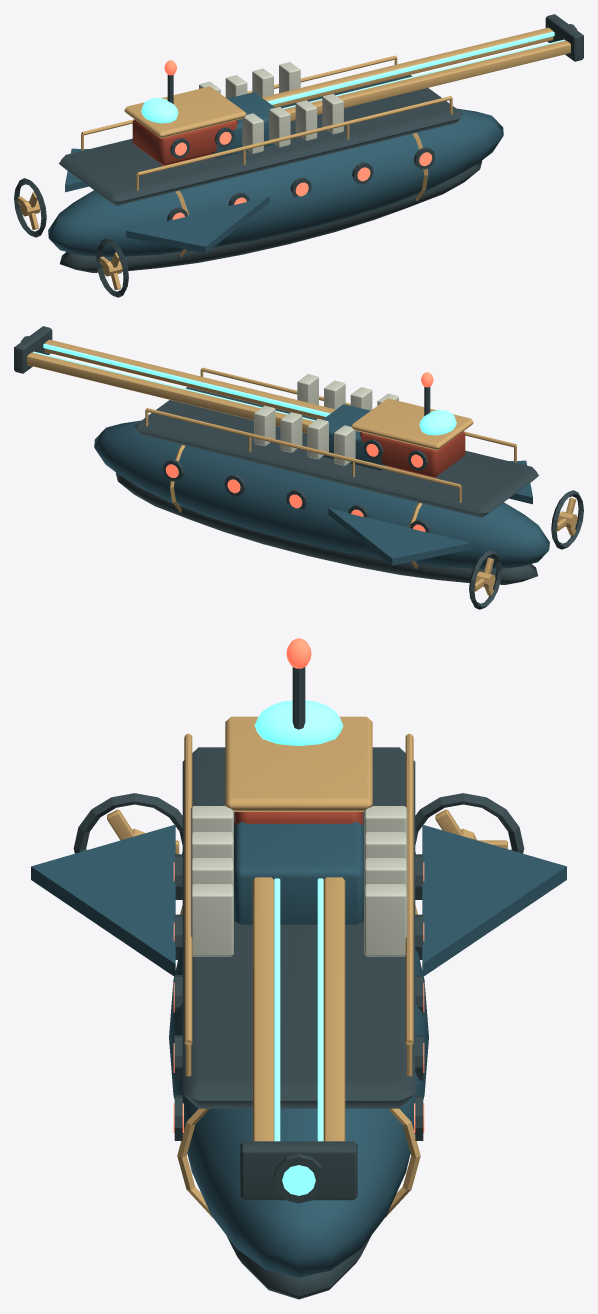
Rendered from enemy-sniper.glb.
The picture shows the model from 3 angles, top to bottom: view 1: azimuth 30°, elevation 25°; view 2: azimuth 150°, elevation 25°; view 3: azimuth 270°, elevation 25°; orthographic projection. The views are drawn at different scales.
Parts seen in each view (by area): view 1: enemy-sniper / Hull | Prussian enamel, enemy-sniper / Hull | charcoal iron, enemy-sniper / Fittings | worn maritime brass, enemy-sniper / Insulator | warm porcelain, enemy-sniper / Lamp | charged glacial blue, enemy-sniper / Hull | burnt cinnabar, enemy-sniper / Lamp | hostile coral; view 2: enemy-sniper / Hull | Prussian enamel, enemy-sniper / Hull | charcoal iron, enemy-sniper / Fittings | worn maritime brass, enemy-sniper / Insulator | warm porcelain, enemy-sniper / Lamp | charged glacial blue, enemy-sniper / Hull | burnt cinnabar, enemy-sniper / Lamp | hostile coral; view 3: enemy-sniper / Hull | Prussian enamel, enemy-sniper / Hull | charcoal iron, enemy-sniper / Fittings | worn maritime brass, enemy-sniper / Insulator | warm porcelain, enemy-sniper / Lamp | charged glacial blue, enemy-sniper / Hull | burnt cinnabar, enemy-sniper / Lamp | hostile coral.
Part boxes in pixels (bbox=[...]): enemy-sniper / Hull | Prussian enamel: bbox=[48, 92, 503, 256]; enemy-sniper / Hull | charcoal iron: bbox=[14, 14, 583, 297]; enemy-sniper / Fittings | worn maritime brass: bbox=[17, 27, 570, 290]; enemy-sniper / Insulator | warm porcelain: bbox=[199, 62, 343, 153]; enemy-sniper / Lamp | charged glacial blue: bbox=[141, 31, 565, 123]; enemy-sniper / Hull | burnt cinnabar: bbox=[132, 119, 238, 165]; enemy-sniper / Lamp | hostile coral: bbox=[164, 60, 432, 219]; enemy-sniper / Hull | Prussian enamel: bbox=[94, 404, 549, 568]; enemy-sniper / Hull | charcoal iron: bbox=[14, 326, 583, 609]; enemy-sniper / Fittings | worn maritime brass: bbox=[27, 339, 577, 595]; enemy-sniper / Insulator | warm porcelain: bbox=[254, 374, 398, 465]; enemy-sniper / Lamp | charged glacial blue: bbox=[32, 343, 456, 435]; enemy-sniper / Hull | burnt cinnabar: bbox=[359, 431, 465, 477]; enemy-sniper / Lamp | hostile coral: bbox=[165, 372, 433, 531]; enemy-sniper / Hull | Prussian enamel: bbox=[31, 821, 566, 1277]; enemy-sniper / Hull | charcoal iron: bbox=[73, 667, 524, 1299]; enemy-sniper / Fittings | worn maritime brass: bbox=[107, 716, 507, 1217]; enemy-sniper / Insulator | warm porcelain: bbox=[190, 806, 407, 956]; enemy-sniper / Lamp | charged glacial blue: bbox=[254, 700, 343, 1195]; enemy-sniper / Hull | burnt cinnabar: bbox=[234, 812, 363, 824]; enemy-sniper / Lamp | hostile coral: bbox=[173, 638, 424, 1132].
Bounding box in the file's own units: 10.63 × 3.9 × 4.7.
